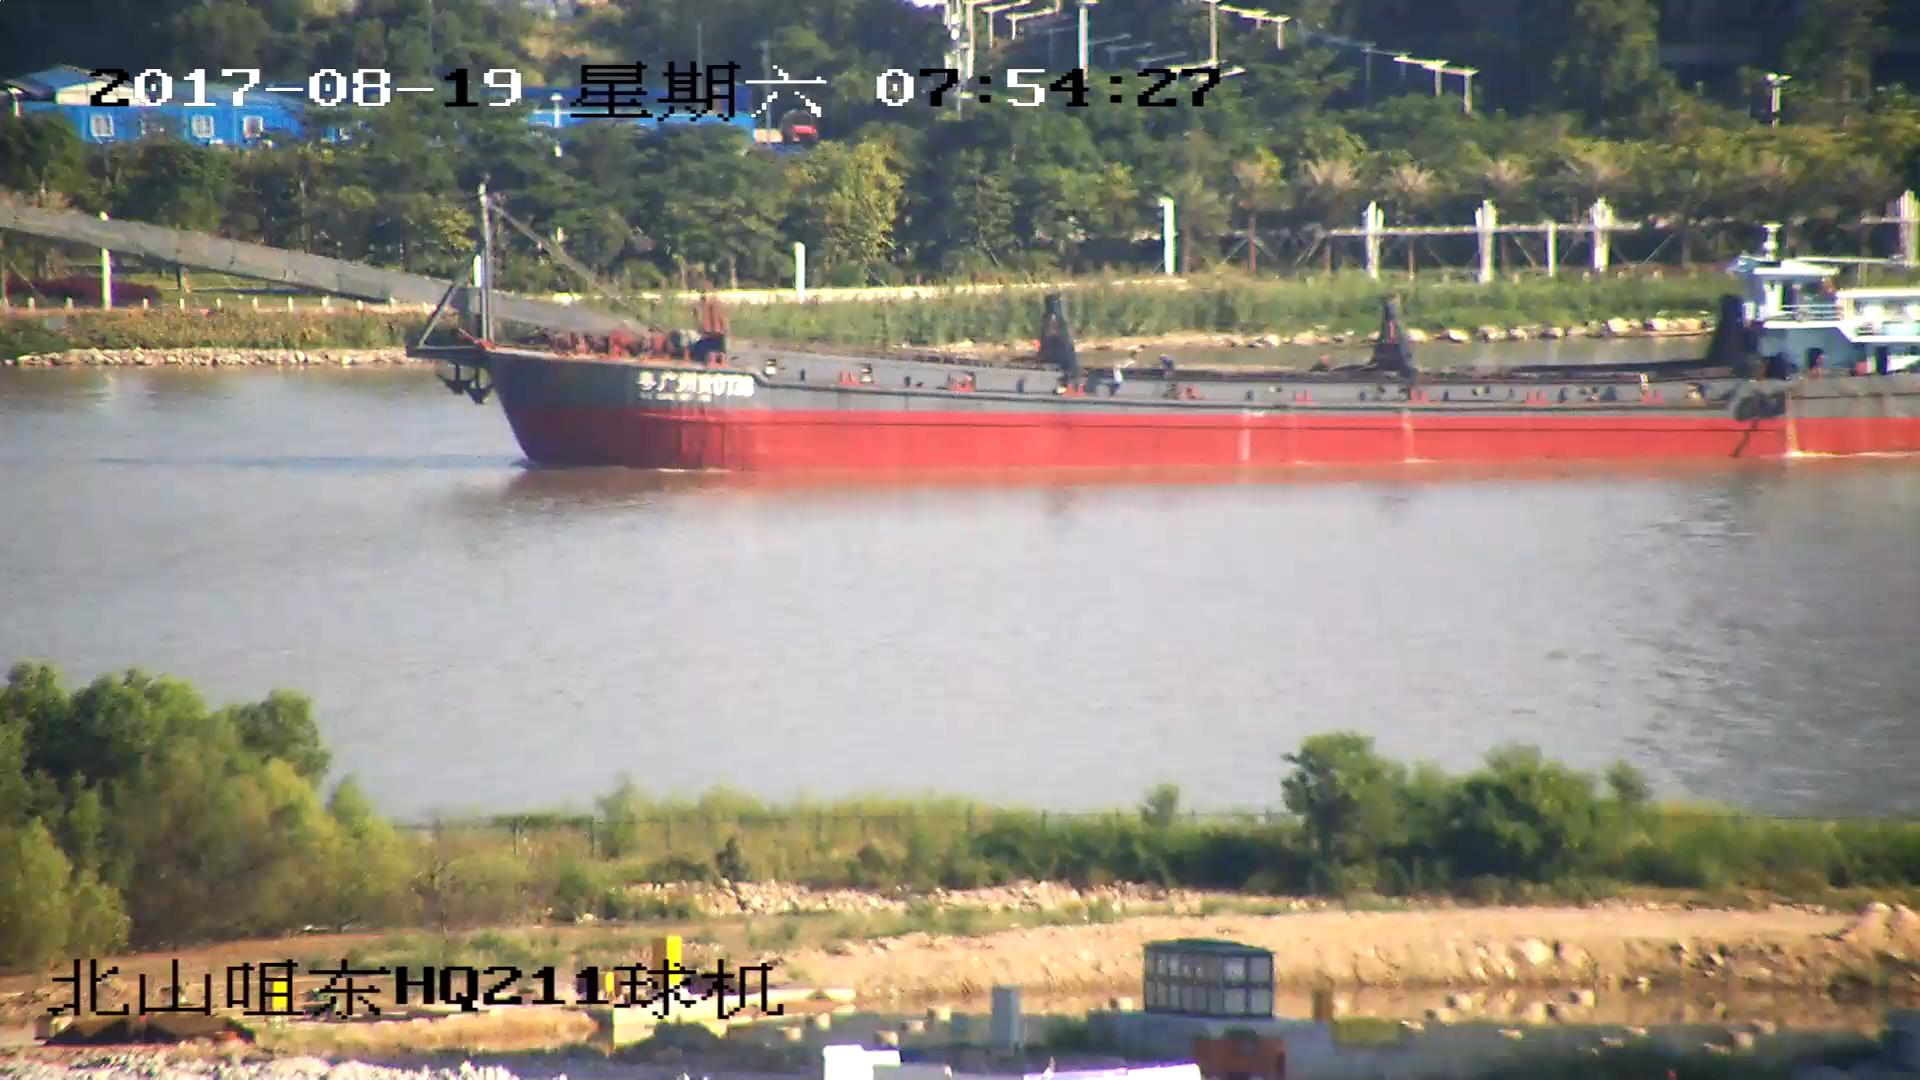bulk cargo carrier: (1, 198, 1920, 477)
